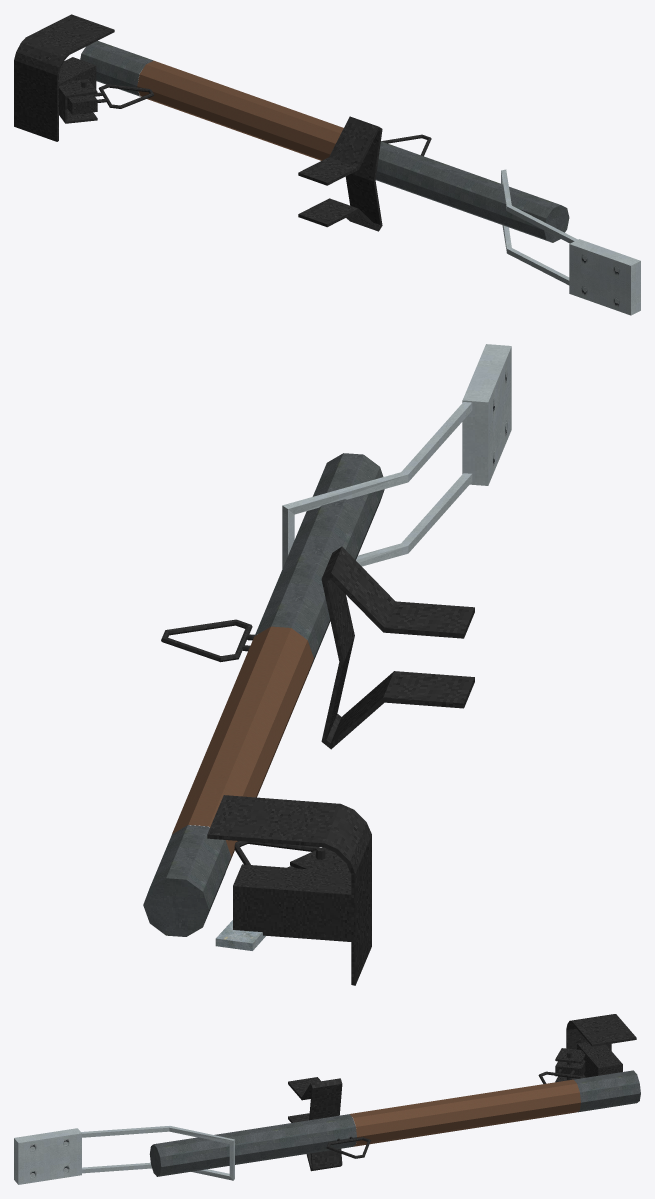
Rendered from jxzz003-geode.glb.
3 renders of one model, top to bottom at view 1: azimuth 30°, elevation 25°; view 2: azimuth 150°, elevation 25°; view 3: azimuth 270°, elevation 25°, orthographic. The views are drawn at different scales.
Parts seen in each view (by area): view 1: Node; view 2: Node; view 3: Node.
Part boxes in pixels (x1=…): Node: x1=14, y1=14, x2=640, y2=315; Node: x1=143, y1=344, x2=511, y2=985; Node: x1=14, y1=1014, x2=640, y2=1184.
Bounding box in the file's own units: 0.6413 × 0.2235 × 1.44.
Materials: 6 (6 with a texture image).
